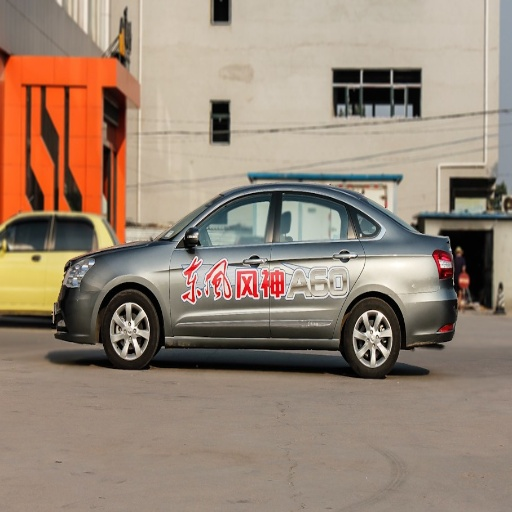back_left_door: (270, 190, 364, 337)
front_left_door: (170, 192, 275, 336)
